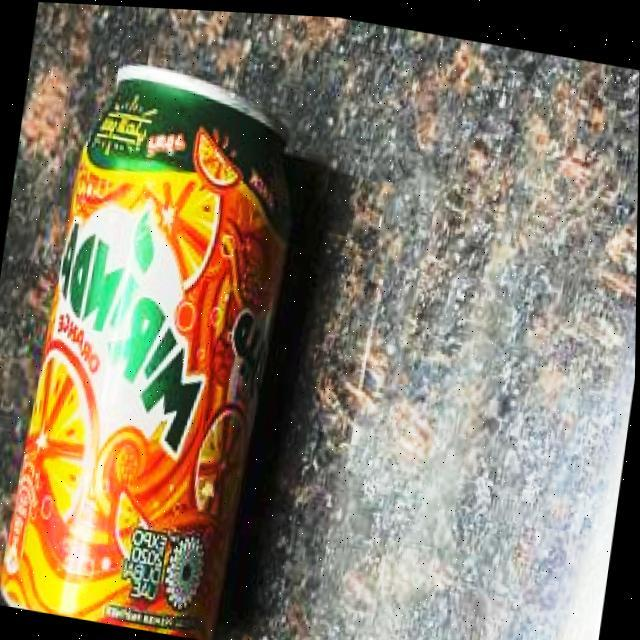Lata: (2, 66, 288, 639)
